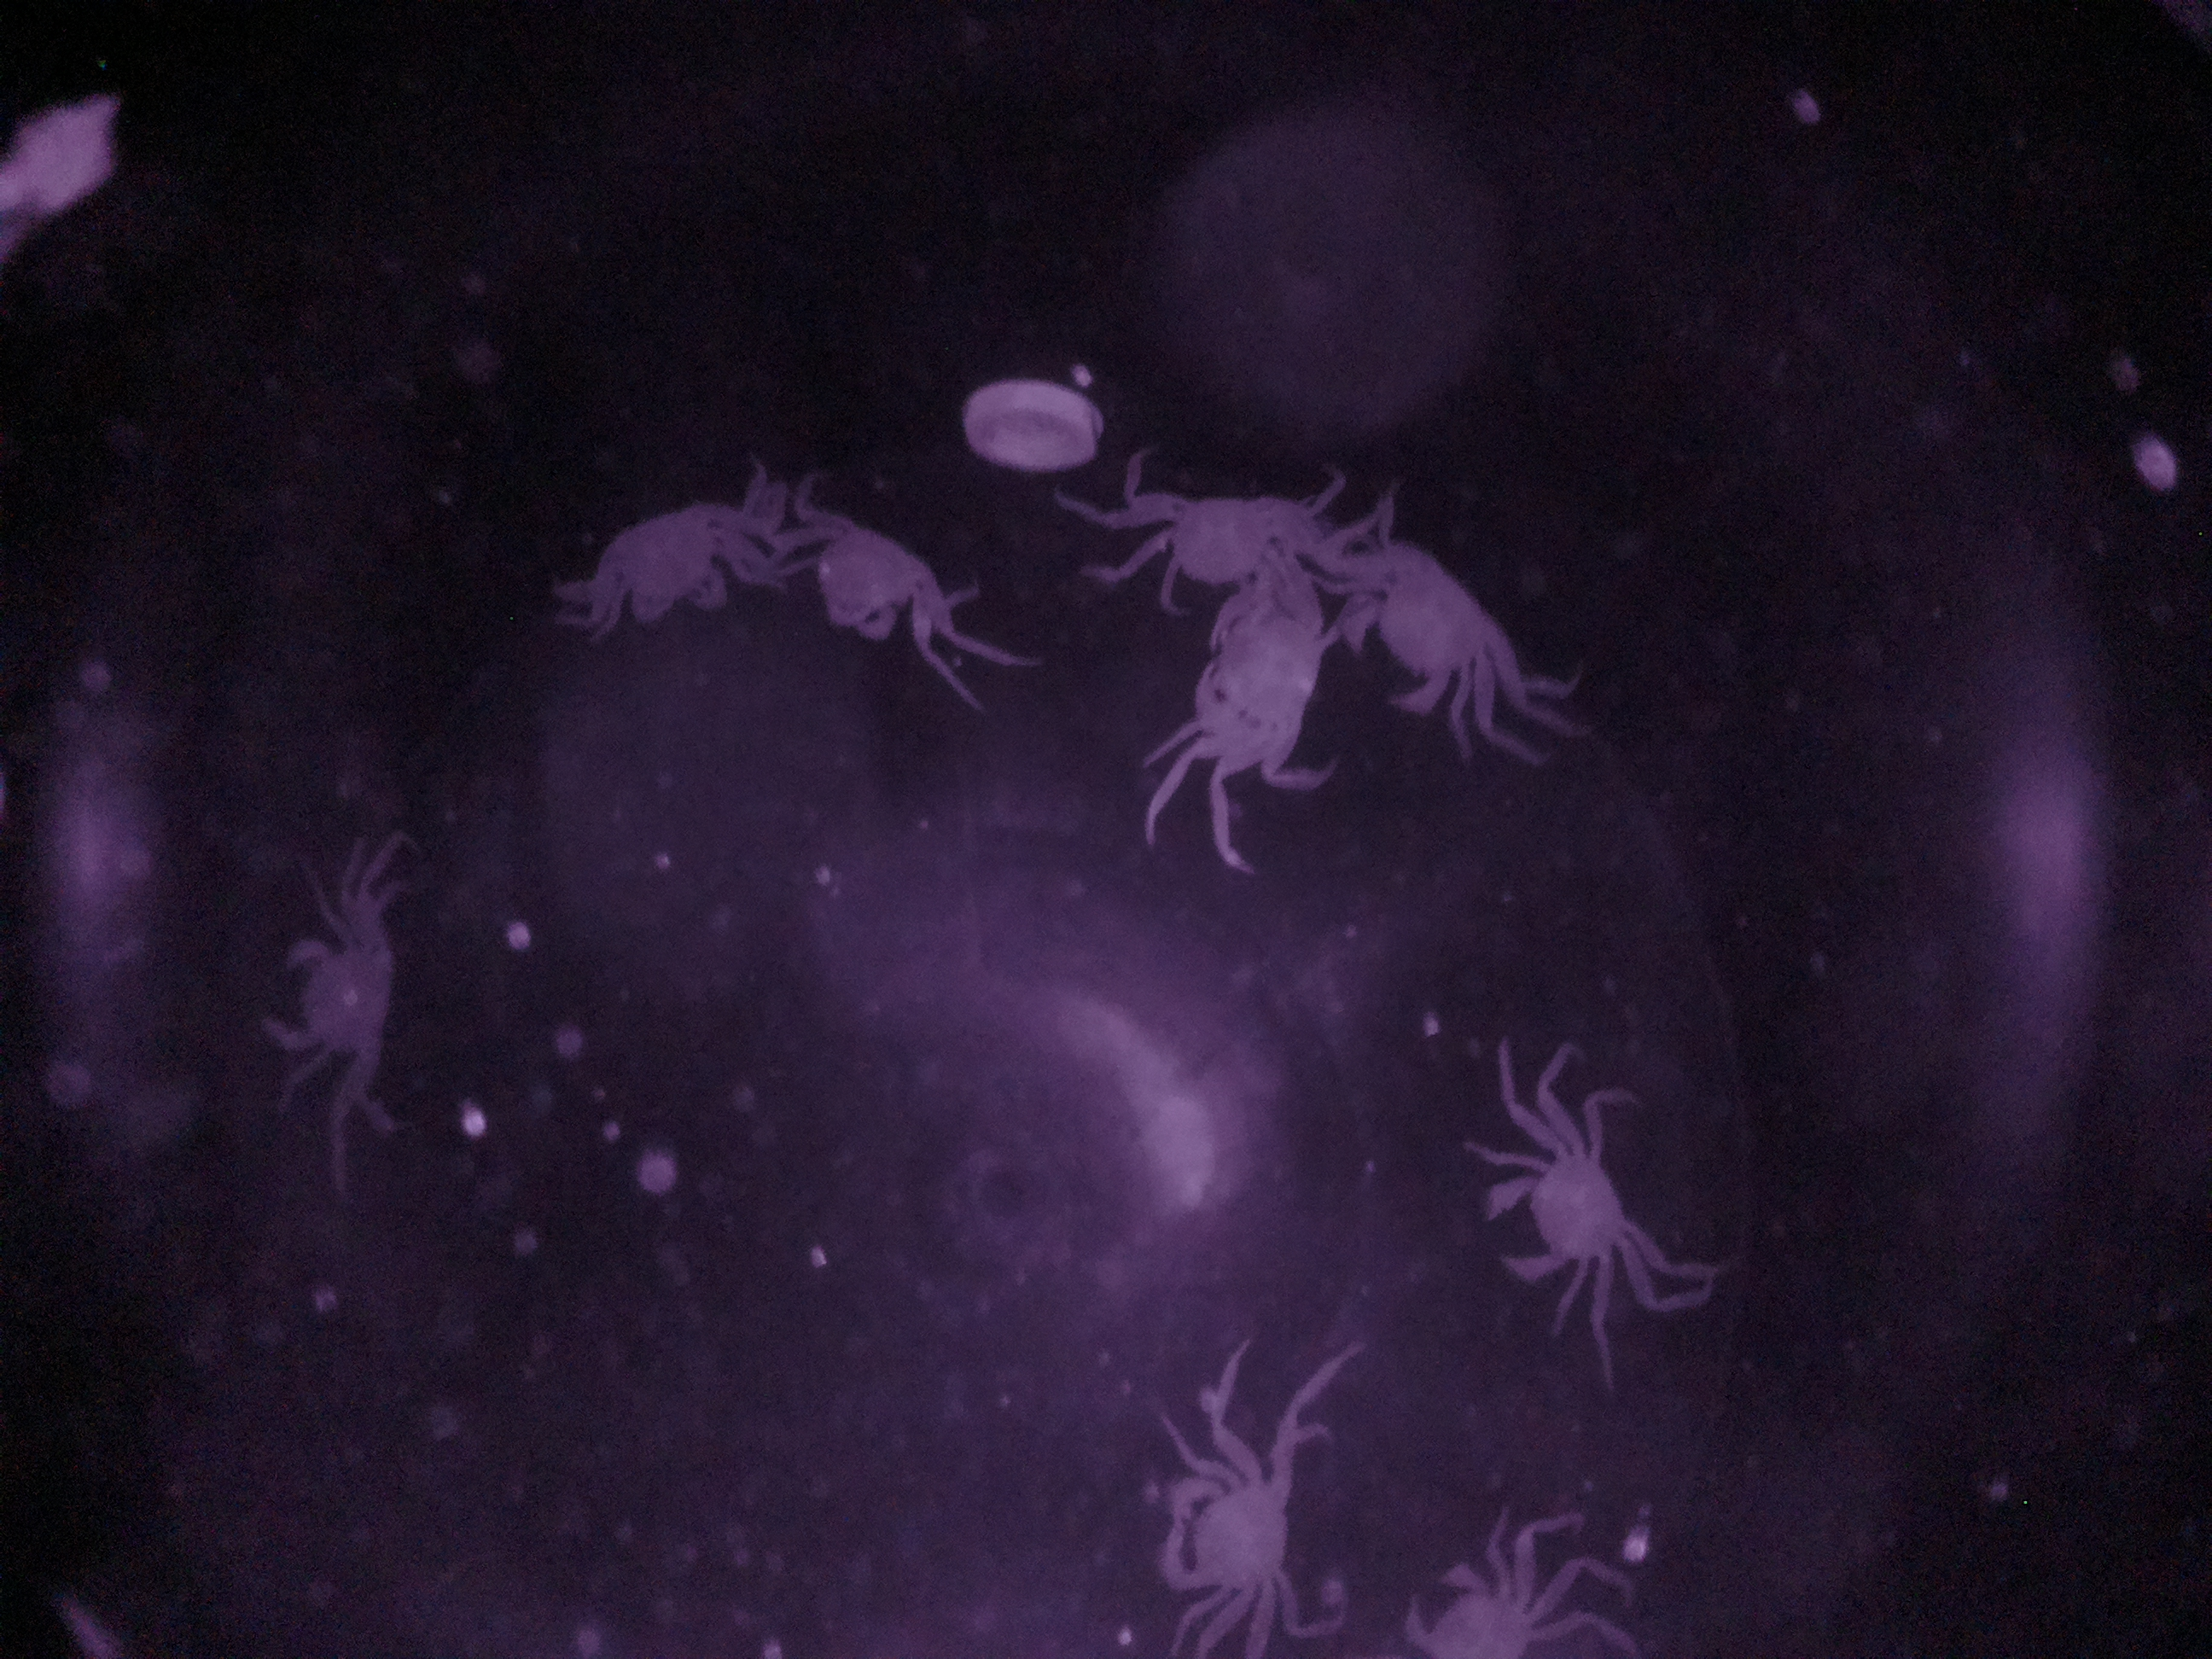Crab: (1324, 505, 1521, 737), (786, 486, 998, 699), (1463, 1101, 1653, 1328), (1130, 1419, 1327, 1633), (559, 481, 770, 645)
